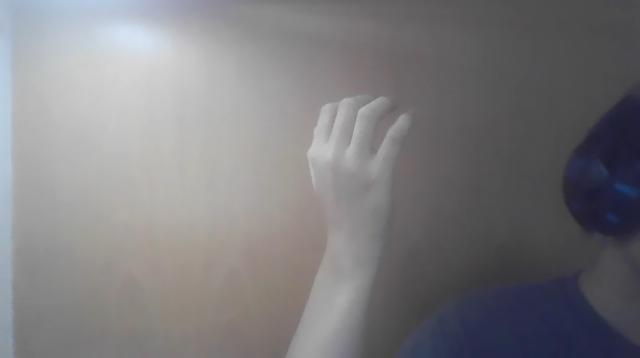backword: (305, 93, 415, 275)
